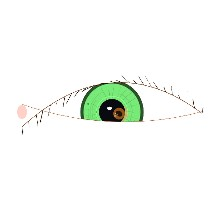foreign_body_visible: (102, 100, 136, 127)
